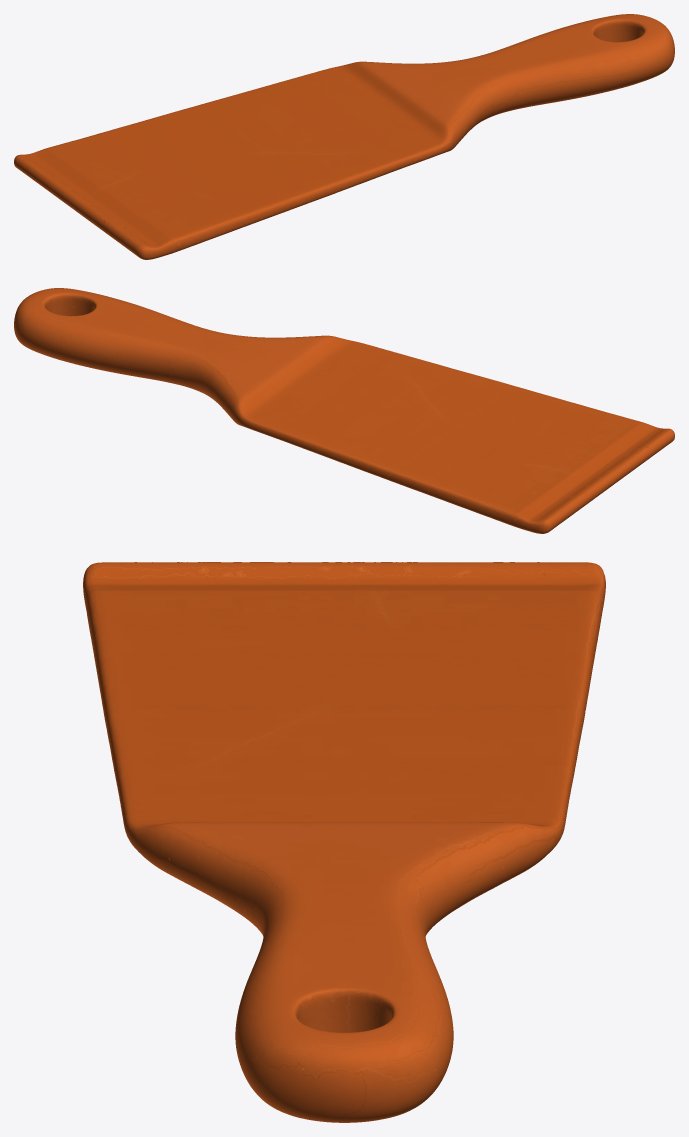
3 views of the same model, one above another, from view 1: azimuth 30°, elevation 25°; view 2: azimuth 150°, elevation 25°; view 3: azimuth 270°, elevation 25° (orthographic). The views are drawn at different scales.
Bounding box in the file's own units: 1.88 × 0.1623 × 0.7194.
1 material, 1 textured.
